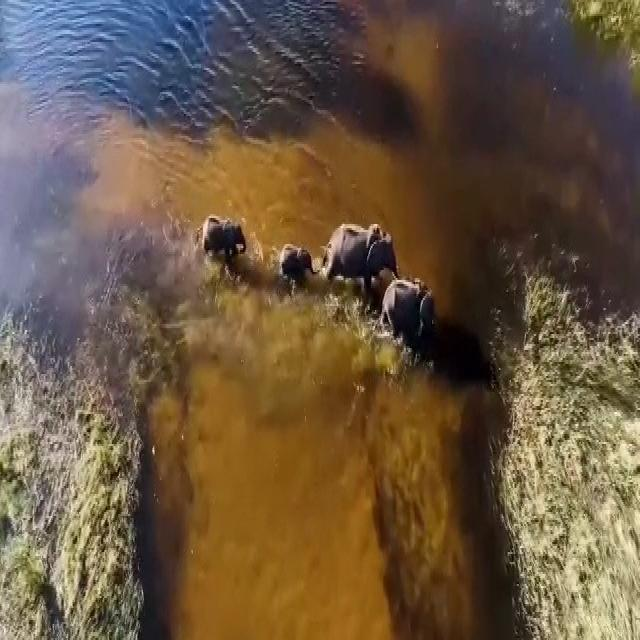Elephant: (326, 208, 396, 296), (380, 270, 442, 348), (199, 203, 248, 279), (280, 229, 318, 304)
